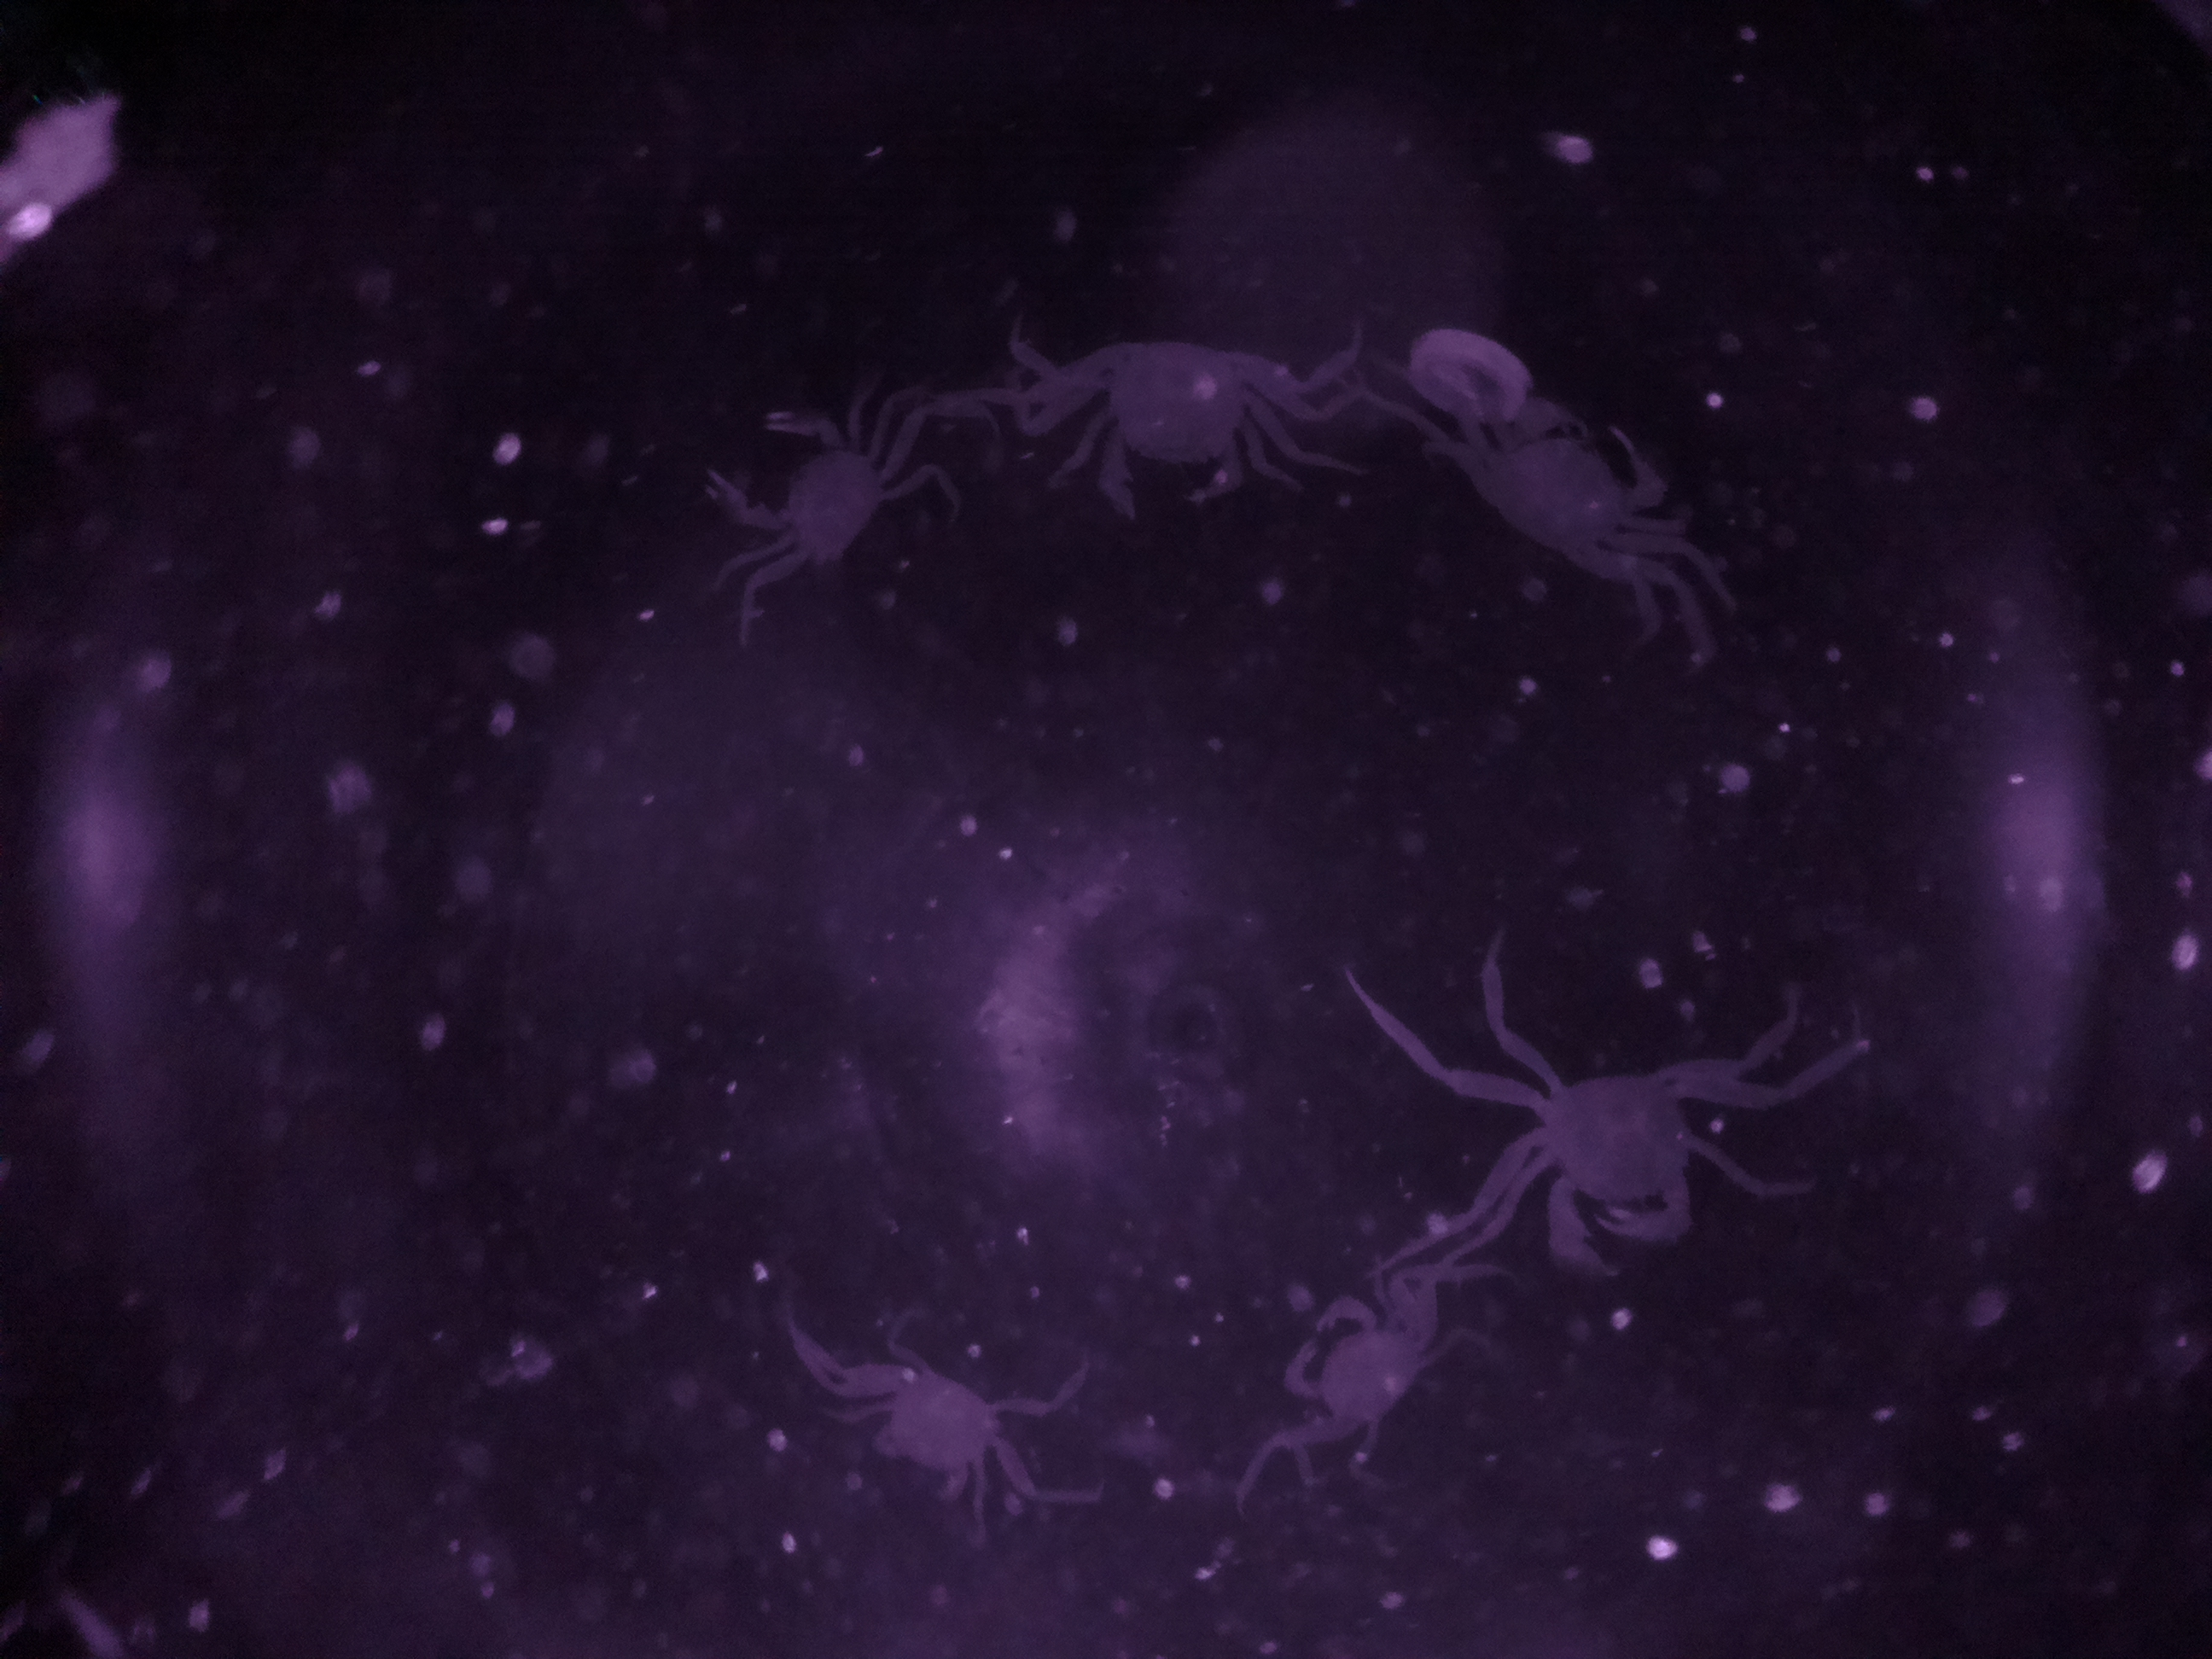Crab: (1487, 1033, 1787, 1303), (1043, 329, 1348, 540), (1411, 383, 1674, 613), (805, 1330, 1080, 1528), (702, 396, 939, 610), (1271, 1276, 1472, 1467)
